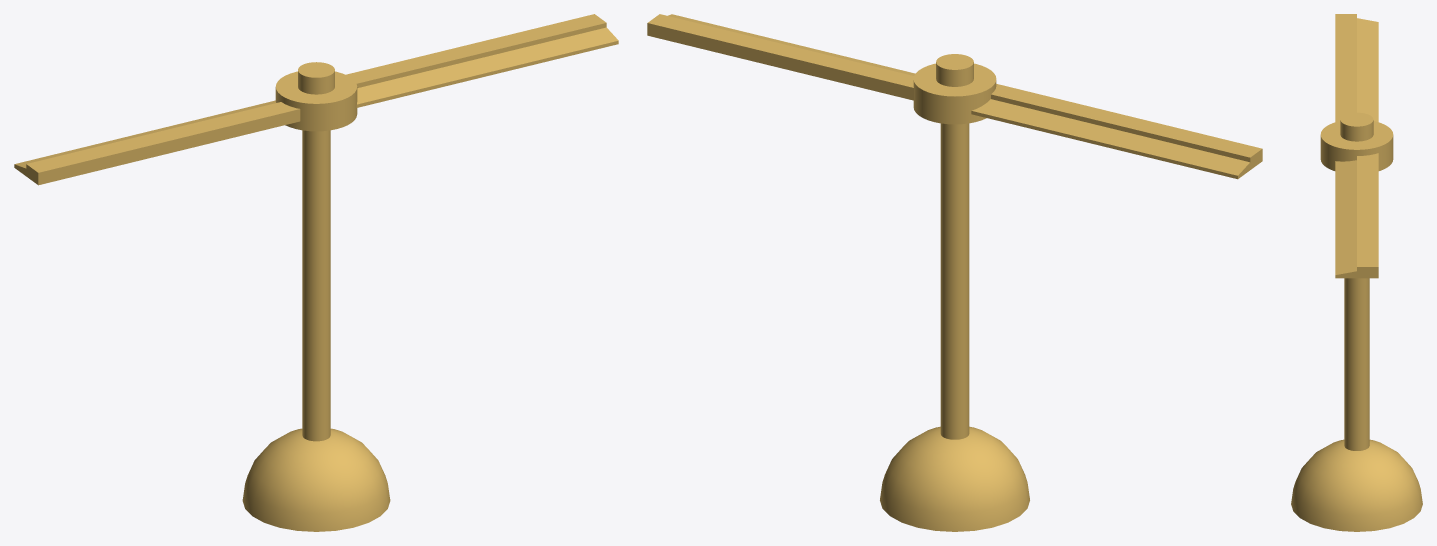
Rendered from take copter.fbx.
3 views of the same model, side by side, from view 1: azimuth 30°, elevation 25°; view 2: azimuth 150°, elevation 25°; view 3: azimuth 270°, elevation 25° (orthographic). The views are drawn at different scales.
Visible parts, largest first — view 1: take_copter_1; view 2: take_copter_1; view 3: take_copter_1.
Part boxes in pixels (box(x1,y1,x2,y2)): take_copter_1: box(14, 14, 618, 531); take_copter_1: box(647, 14, 1262, 531); take_copter_1: box(1291, 14, 1422, 531).
Bounding box in the file's own units: 621 × 440 × 137.
